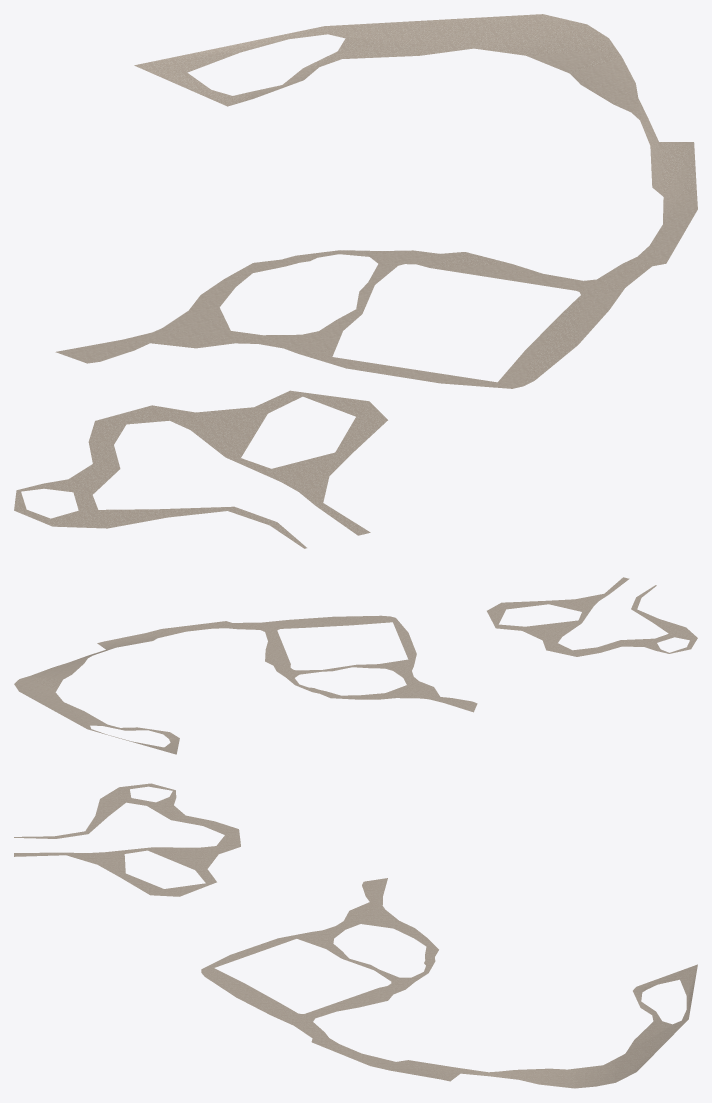
The model's file is kd_connection_town-ground_surface_3_15.glb.
The picture shows the model from 3 angles, top to bottom: view 1: azimuth 30°, elevation 25°; view 2: azimuth 150°, elevation 25°; view 3: azimuth 270°, elevation 25°; orthographic projection. The views are drawn at different scales.
Visible parts, largest first — view 1: kd_connection_town-ground_surface_3_15; view 2: kd_connection_town-ground_surface_3_15; view 3: kd_connection_town-ground_surface_3_15.
Part boxes in pixels (bbox=[...]): kd_connection_town-ground_surface_3_15: bbox=[14, 14, 697, 548]; kd_connection_town-ground_surface_3_15: bbox=[14, 577, 697, 754]; kd_connection_town-ground_surface_3_15: bbox=[14, 783, 697, 1088].
Size of the model in its own units: 10.57 by 0.4199 by 10.65.
1 material, 1 textured.
